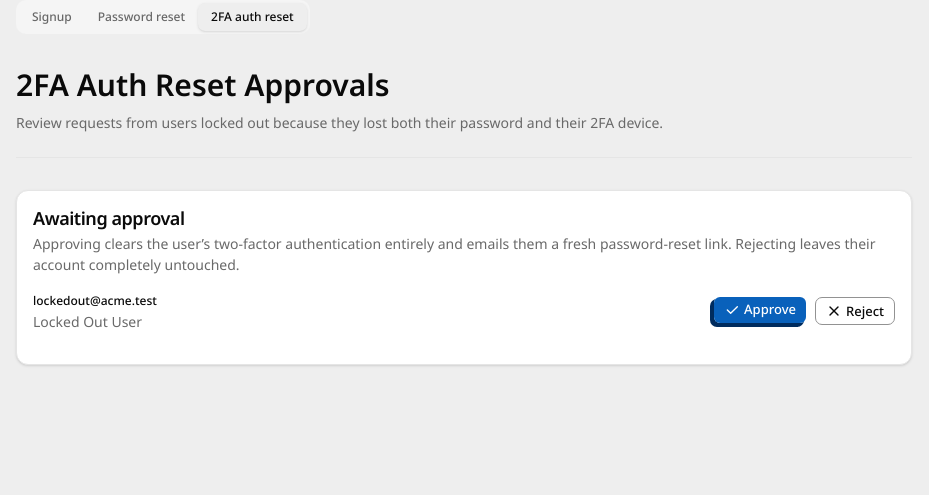
Test case: TwoFactorRecoveryApprovalsPage — list and actions › POSTs approve and removes the row on success
The width and height of the screenshot is (929, 495).
Click the button with test id "two-factor-recovery-approve-701" at (760, 310), box [713,296,807,324]
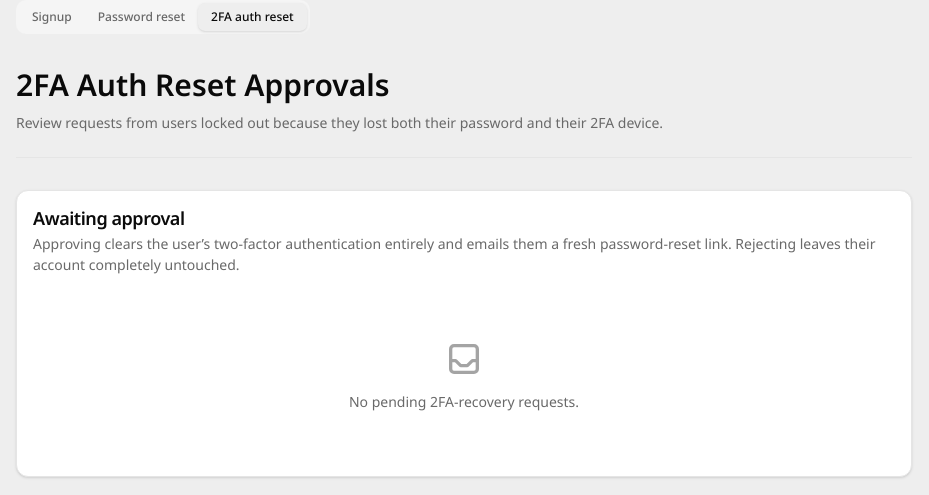
Expected: the list item with test id "two-factor-recovery-row-701" is gone
